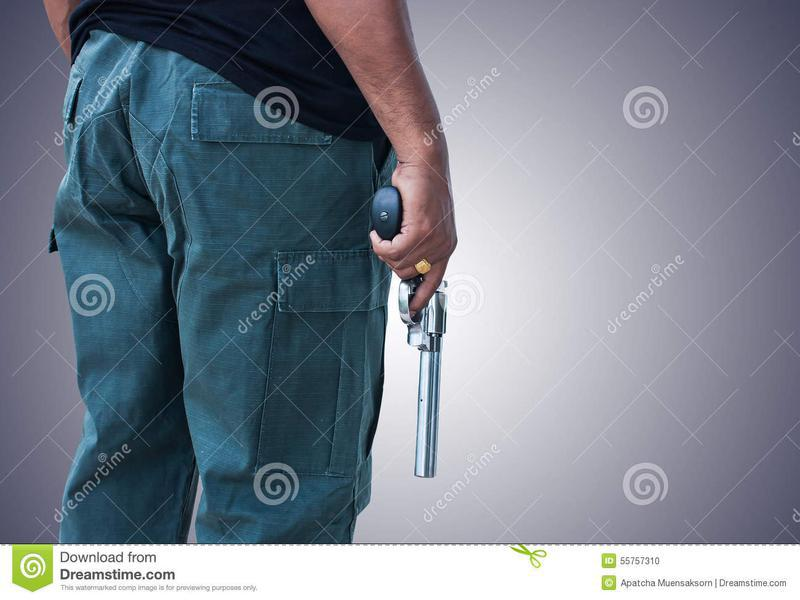Revolver: (370, 209, 451, 483)
